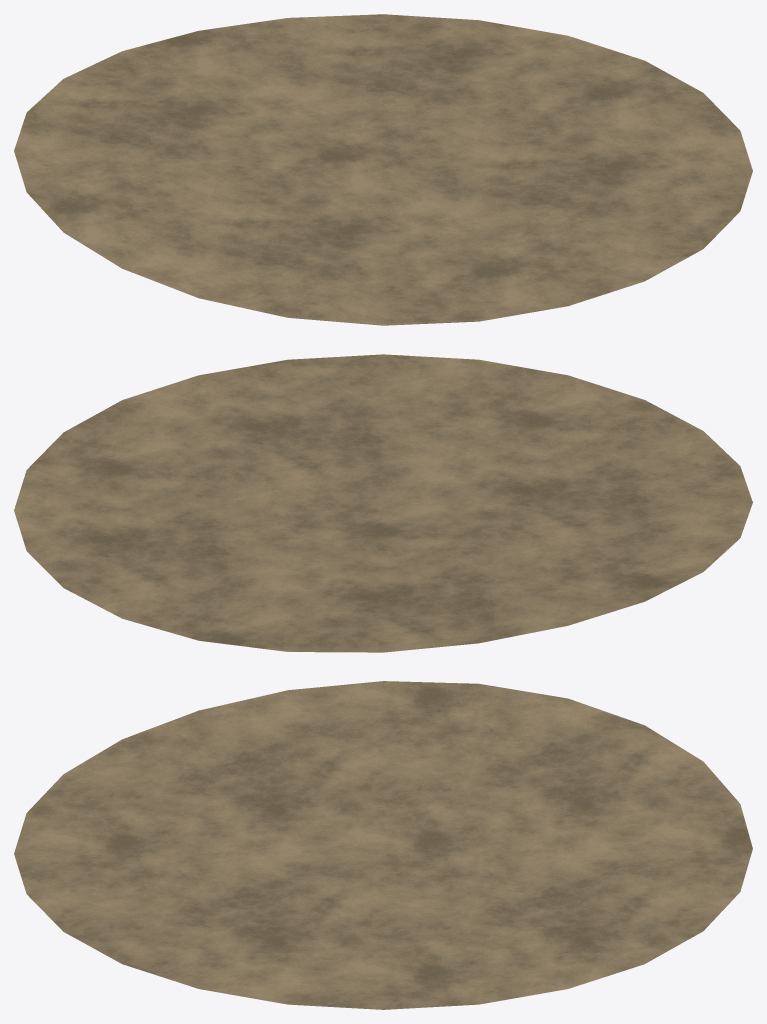
The model's file is INT-J-009.obj.
The picture shows the model from 3 angles, top to bottom: view 1: azimuth 30°, elevation 25°; view 2: azimuth 150°, elevation 25°; view 3: azimuth 270°, elevation 25°; orthographic projection.
Visible parts, largest first — view 1: INT-J-009; view 2: INT-J-009; view 3: INT-J-009.
Part boxes in pixels (left/top/right/bottom): INT-J-009: left=14, top=14, right=752, bottom=325; INT-J-009: left=14, top=354, right=752, bottom=652; INT-J-009: left=14, top=681, right=752, bottom=1009.
Size of the model in its own units: 6 by 0.1794 by 6.
Materials: 1 (1 with a texture image).
